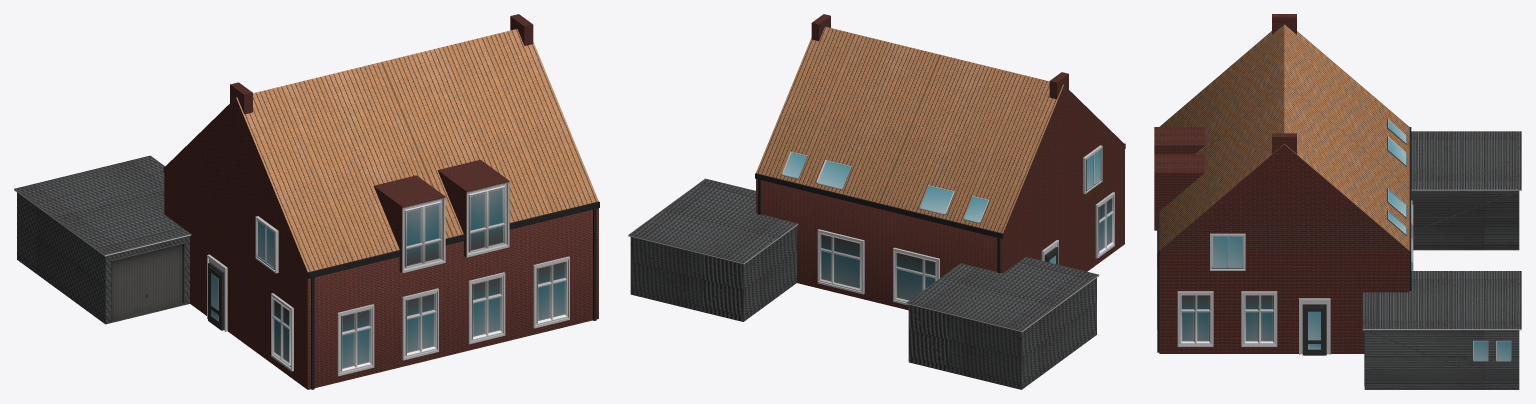
Rendered from Stjelp11A.fbx.
The picture shows the model from 3 angles, left to right: view 1: azimuth 30°, elevation 25°; view 2: azimuth 150°, elevation 25°; view 3: azimuth 270°, elevation 25°; orthographic projection. The views are drawn at different scales.
Visible parts, largest first — view 1: Stjelp_11_A; view 2: Stjelp_11_A; view 3: Stjelp_11_A.
Part boxes in pixels (x1,y1,x2,y2): Stjelp_11_A: [14, 14, 599, 389]; Stjelp_11_A: [628, 14, 1125, 389]; Stjelp_11_A: [1154, 14, 1521, 389].
Size of the model in its own units: 18.8 by 9.59 by 14.75.
Materials: 1 (1 with a texture image).
